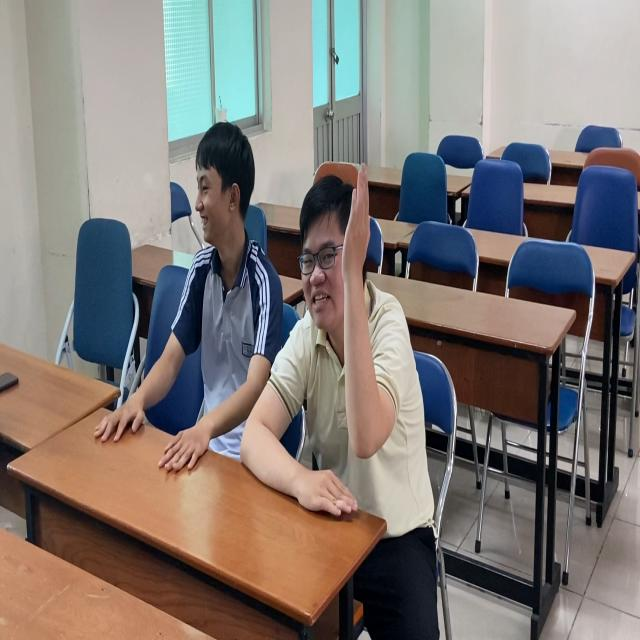raise_hand: (239, 155, 413, 511)
